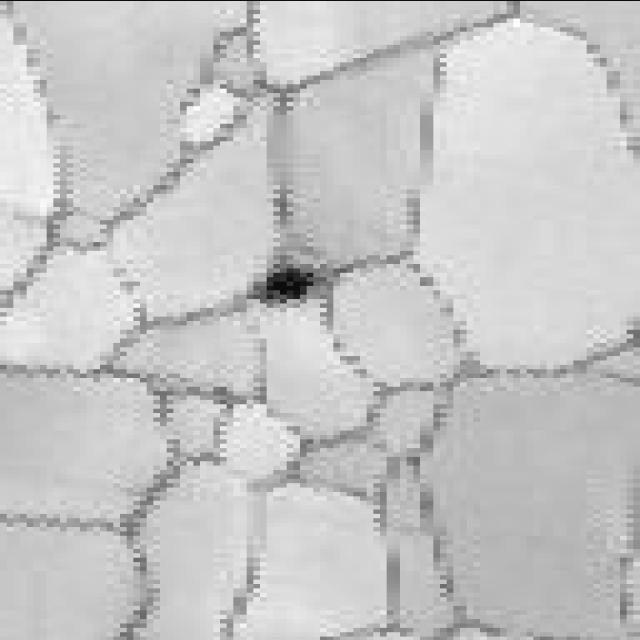good_void: (249, 261, 324, 307)
